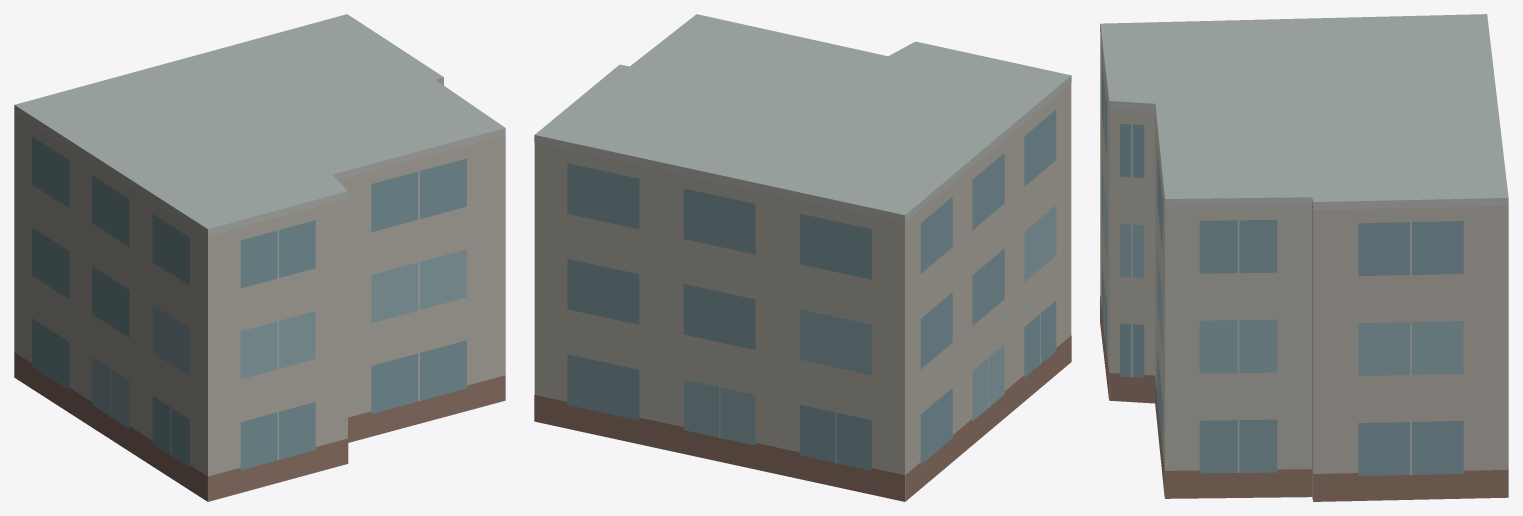
File: survey-upis-32649953.glb
The picture shows the model from 3 angles, left to right: view 1: azimuth 30°, elevation 25°; view 2: azimuth 150°, elevation 25°; view 3: azimuth 270°, elevation 25°; orthographic projection. The views are drawn at different scales.
Parts seen in each view (by area): view 1: survey-upis-32649953.tmp; view 2: survey-upis-32649953.tmp; view 3: survey-upis-32649953.tmp.
Part boxes in pixels (x1,y1,x2,y2): survey-upis-32649953.tmp: (14,14,505,501); survey-upis-32649953.tmp: (534,14,1071,501); survey-upis-32649953.tmp: (1100,14,1508,501).
Size of the model in its own units: 12.32 by 9.15 by 11.31.
